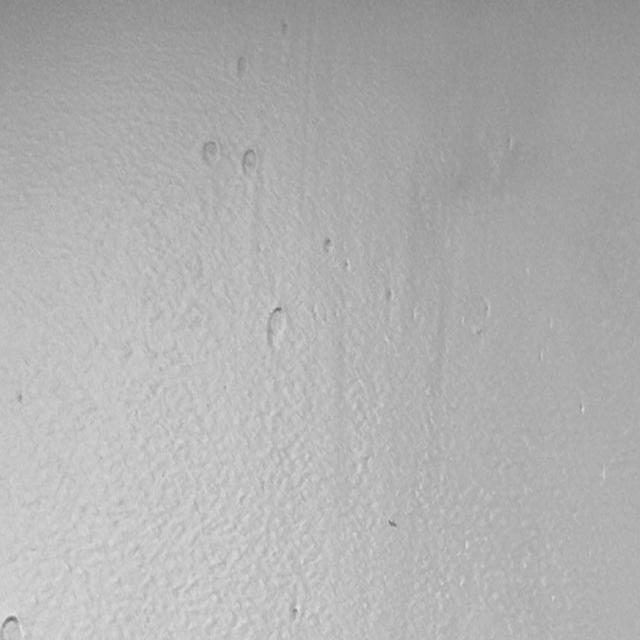pin holes: (263, 306, 289, 348), (2, 611, 28, 640), (199, 140, 223, 169), (240, 149, 262, 177), (232, 56, 251, 80), (477, 300, 496, 324), (277, 20, 295, 42), (383, 282, 397, 310), (290, 605, 305, 624), (323, 237, 336, 256), (14, 392, 27, 411), (340, 259, 354, 275), (389, 516, 405, 530)
